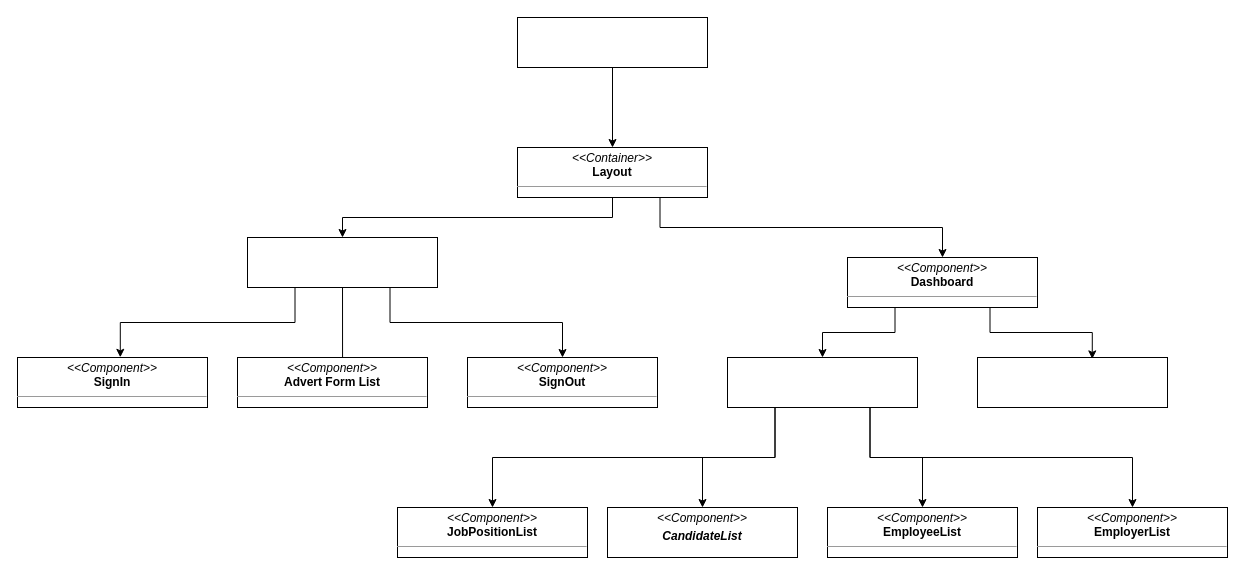
This 1245x575 diagram has some shape labels left out. The shapes that lost their labels are listed below. From the top down, each one's centre as x and y in pixels, then its label:
At (x=612, y=42): "<<Component>> App".
At (x=342, y=262): "<<Component>> Navi".
At (x=822, y=382): "<<Component>> Section".
At (x=1072, y=382): "<<Component>> Sidebar".
